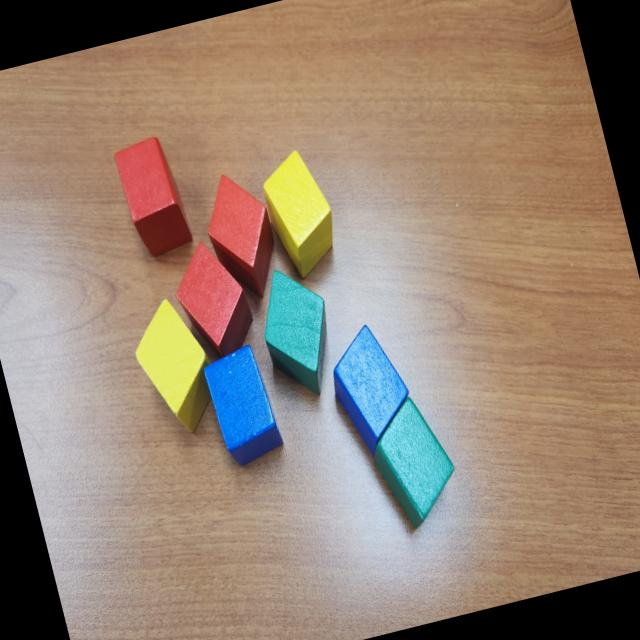blue: (321, 318, 422, 461), (200, 340, 286, 469)
green: (360, 388, 466, 536), (250, 258, 346, 405)
red: (195, 166, 288, 306), (163, 232, 260, 366), (112, 132, 195, 260)
yellow: (125, 292, 224, 440), (255, 145, 346, 283)
